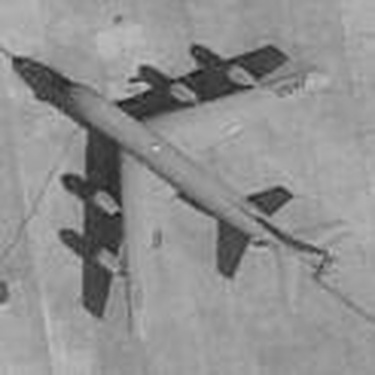airplane: (11, 2, 364, 354)
